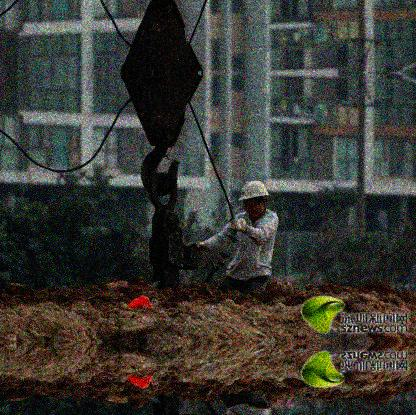helmet: (238, 180, 271, 218)
